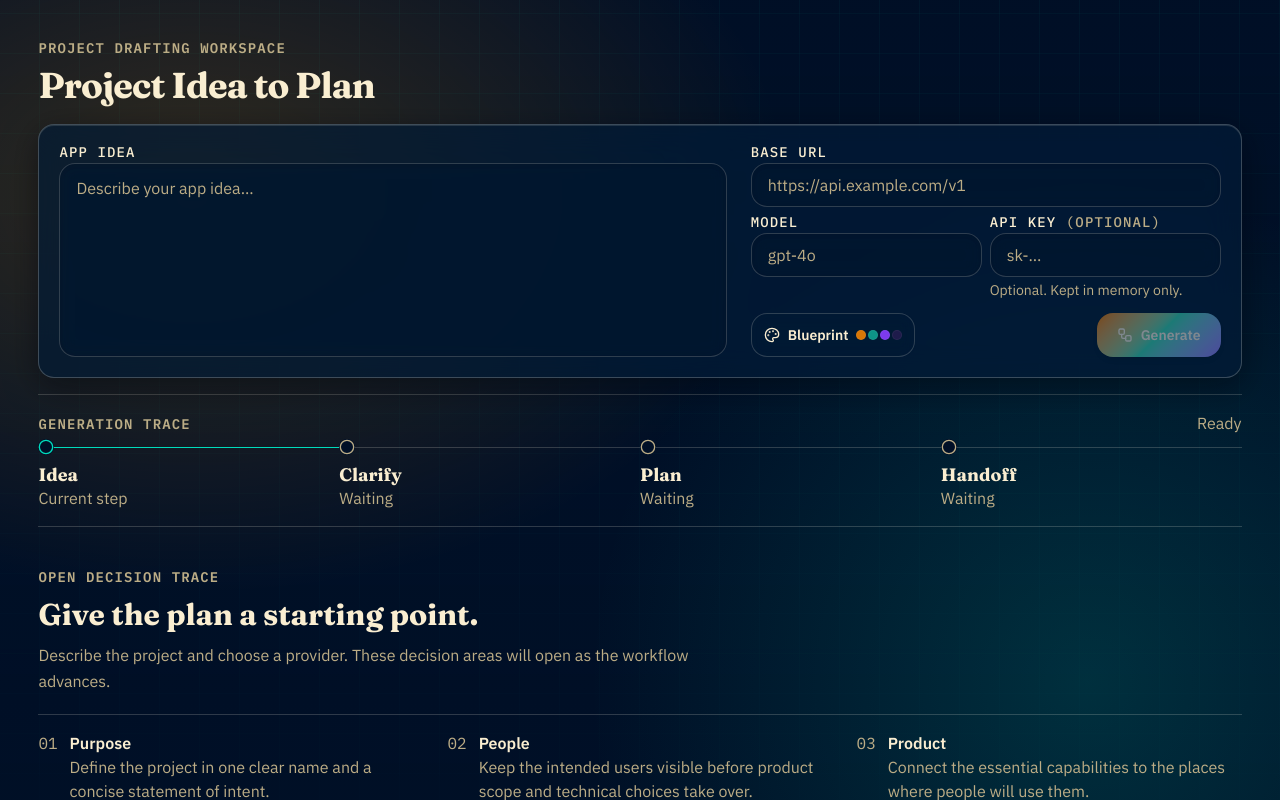
it: planner workflow › omits an empty API key and renders returned clarifying questions
This screenshot has width=1280, height=800.
Type "  A tool library  " into the text box labelled "App Idea" at (393, 260), box top-left (59, 163), bottom-right (727, 357)
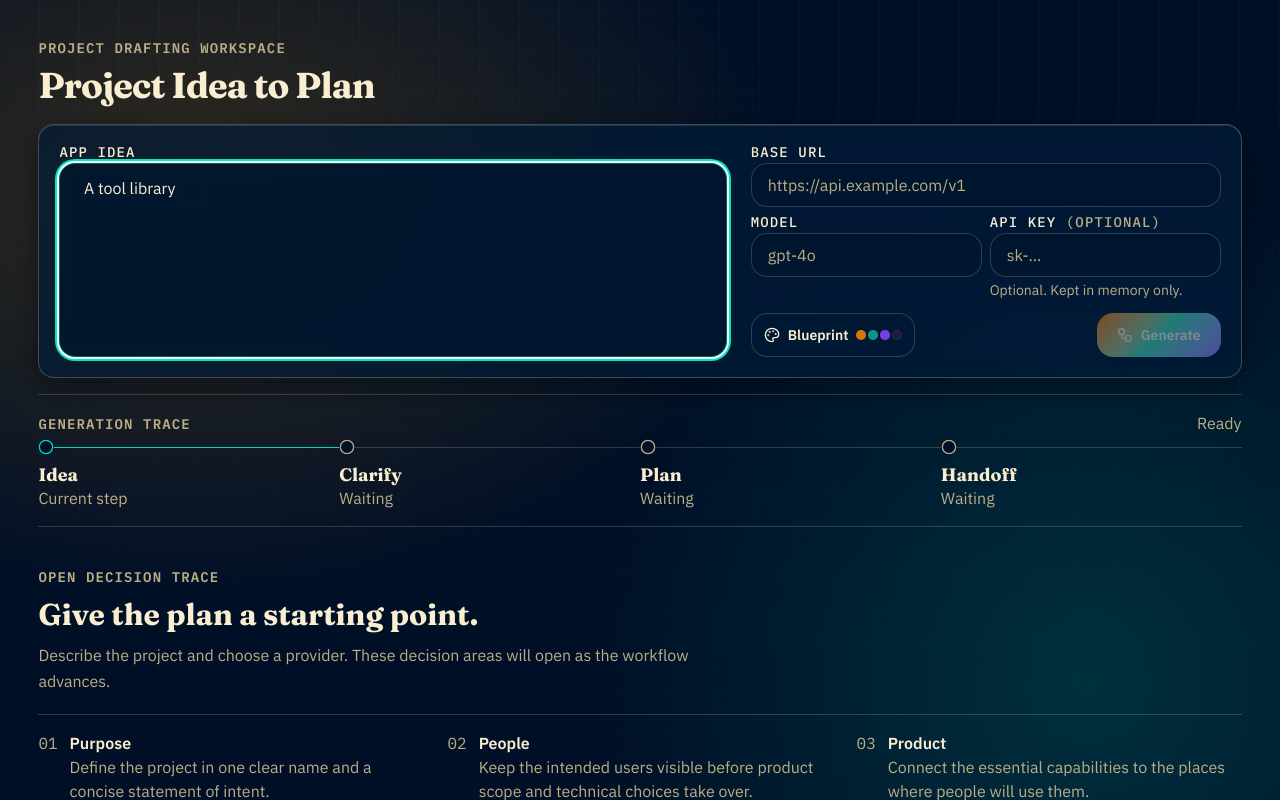
Type "  https://api.example.com/v1  " into the field labelled "Base URL" at (986, 185), box top-left (751, 163), bottom-right (1221, 207)
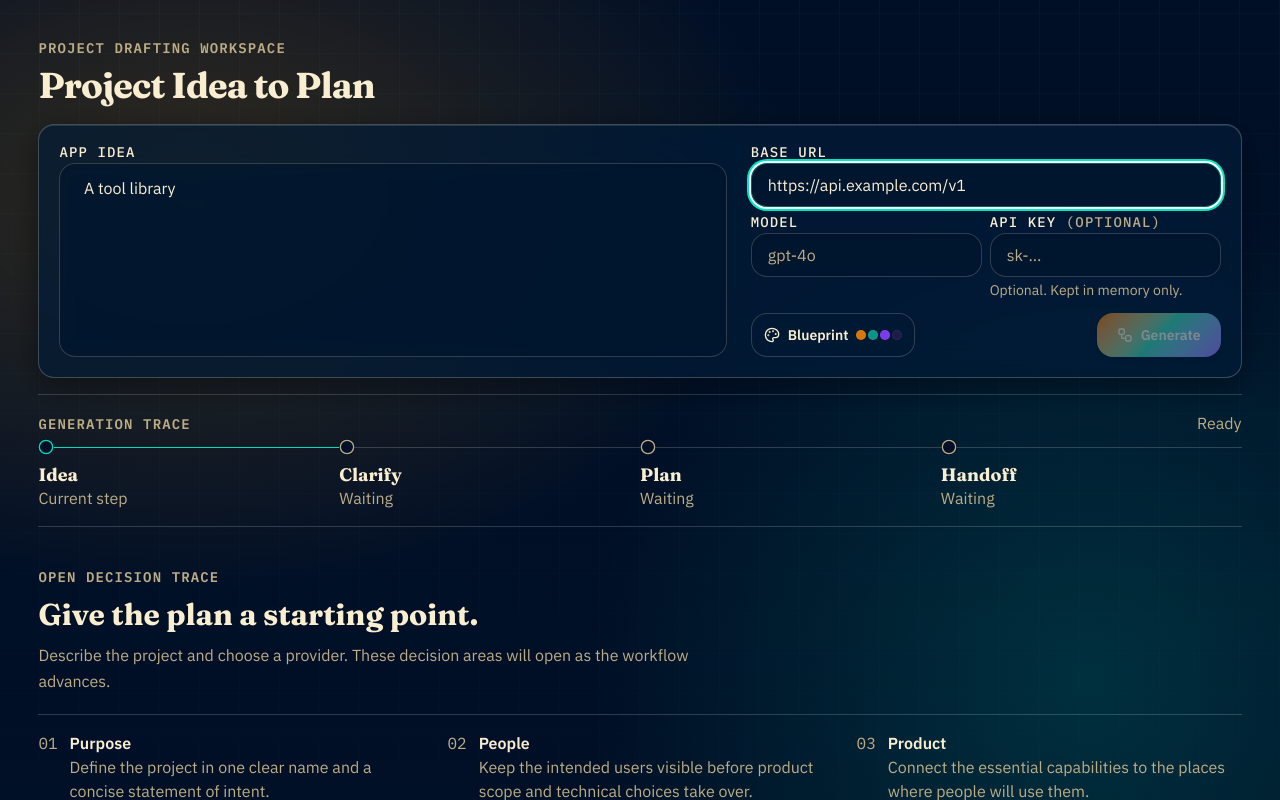
Type "  test-model  " into the field labelled "Model" at (866, 255), box top-left (751, 233), bottom-right (982, 277)
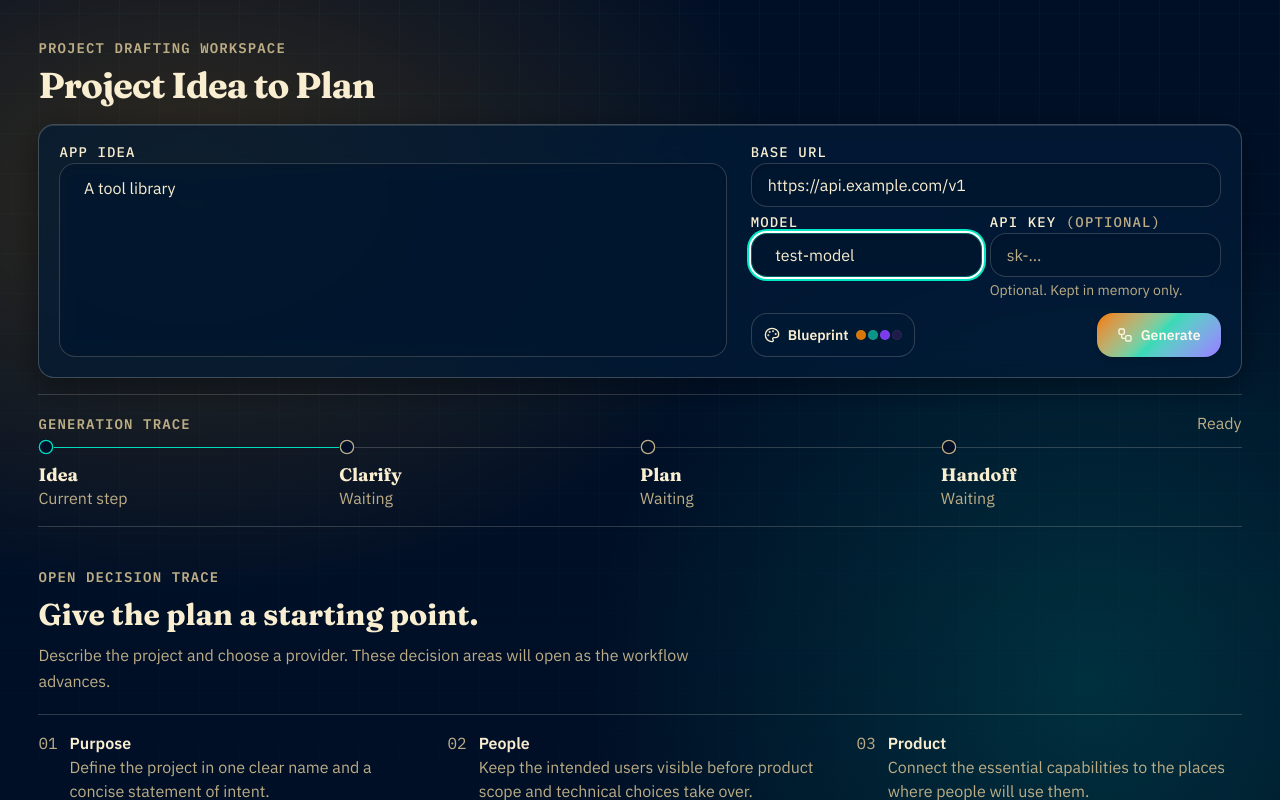
Click the button "Generate" at (1159, 335), box top-left (1097, 313), bottom-right (1221, 357)
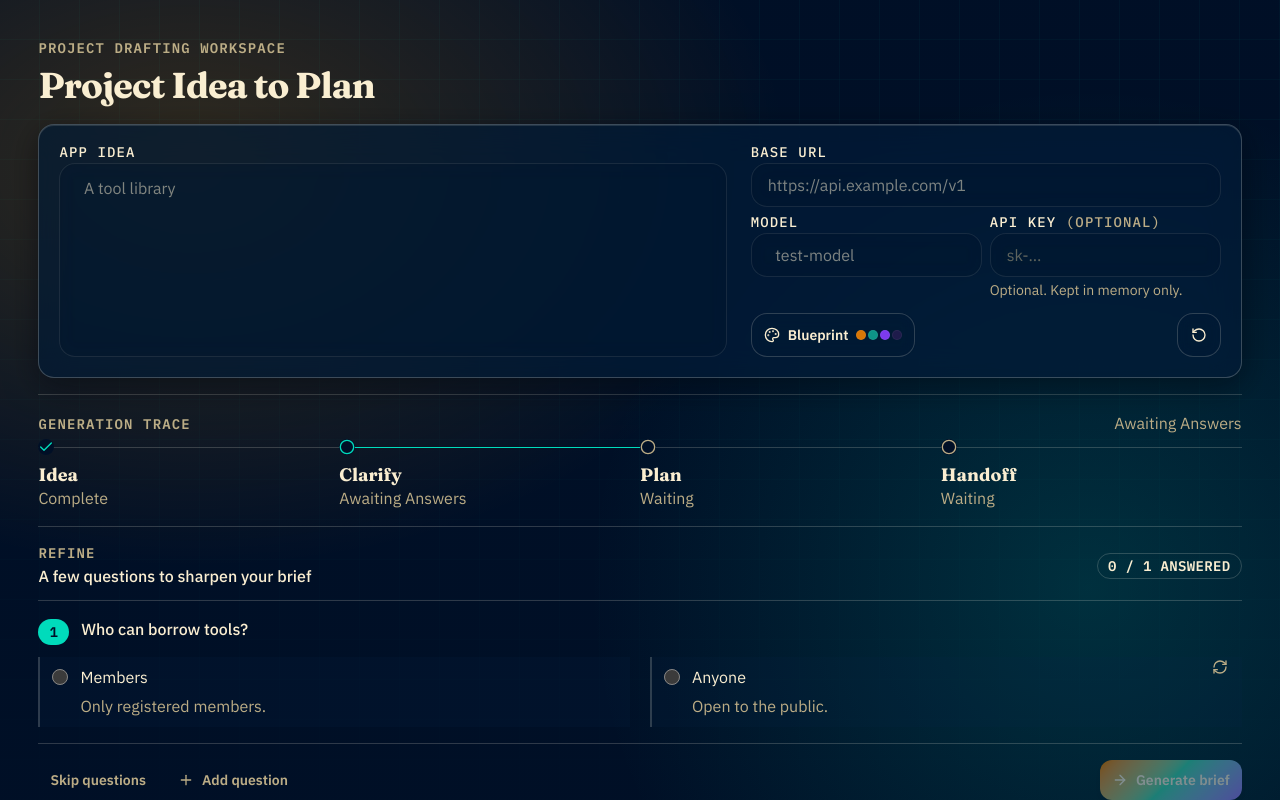
Expected: the text "Who can borrow tools?" is shown, top-left (81, 619), bottom-right (248, 639)
Expected: the radio button labelled "Members Only registered members." is shown, top-left (52, 669), bottom-right (68, 685)
Expected: the text "Only registered members." is shown, top-left (80, 693), bottom-right (266, 719)
